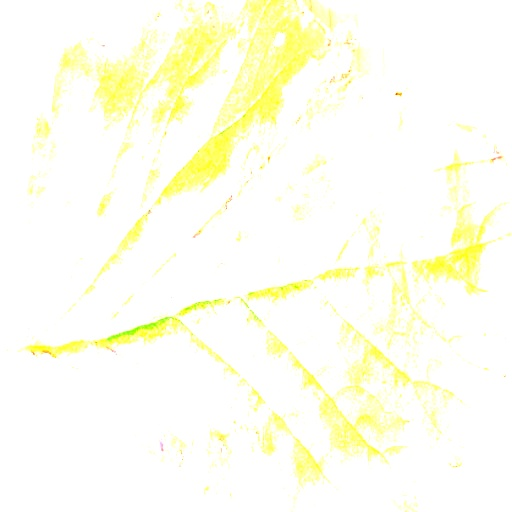Angular Leafspot: (20, 0, 511, 511)
